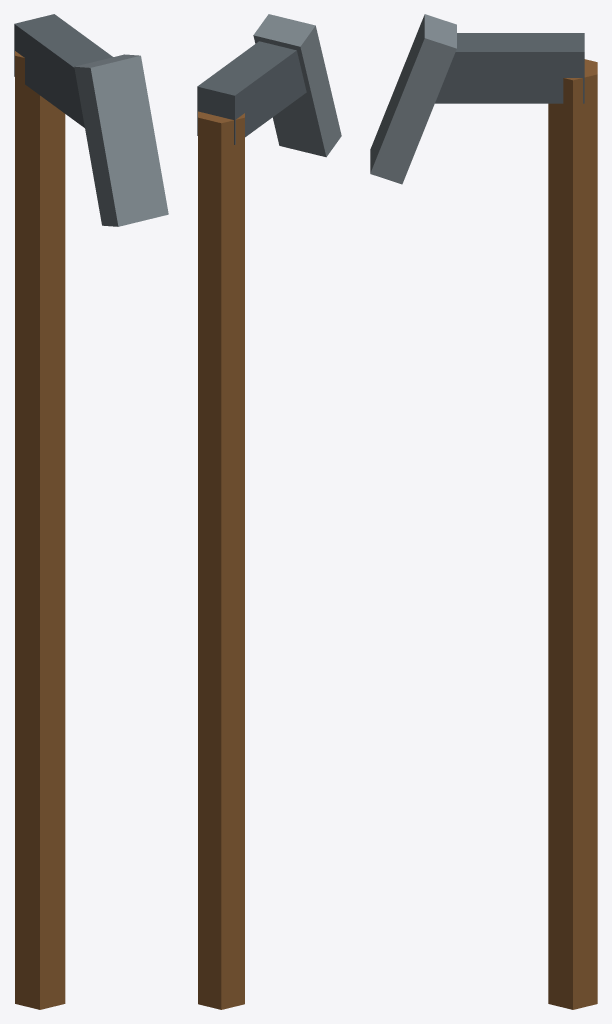
The model's file is hoe.glb.
3 views of the same model, side by side, from view 1: azimuth 30°, elevation 25°; view 2: azimuth 150°, elevation 25°; view 3: azimuth 270°, elevation 25° (orthographic). The views are drawn at different scales.
Visible parts, largest first — view 1: body; view 2: body; view 3: body.
Part boxes in pixels (bbox=[...]): body: bbox=[14, 14, 168, 1009]; body: bbox=[197, 14, 341, 1009]; body: bbox=[370, 14, 597, 1009].
Bounding box in the file's own units: 0.05 × 0.9409 × 0.1997.
